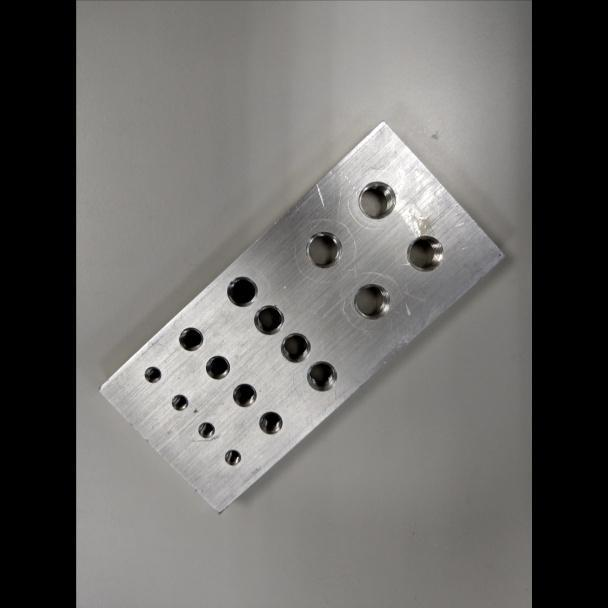hole: (404, 233, 445, 273), (356, 180, 397, 220), (304, 230, 343, 270), (352, 282, 391, 321), (225, 275, 259, 307), (305, 360, 338, 392), (252, 304, 285, 336), (279, 331, 311, 363), (204, 354, 231, 380), (177, 326, 204, 352), (231, 382, 257, 408), (257, 410, 283, 435), (170, 393, 189, 412), (142, 365, 161, 384), (196, 421, 215, 439), (223, 449, 241, 466)
